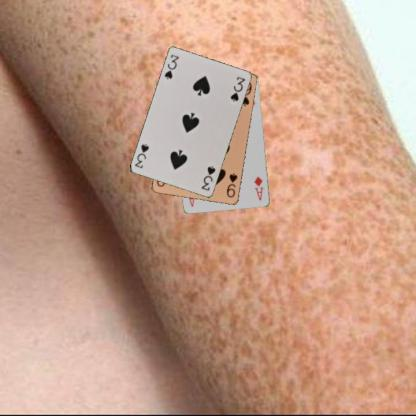3s: (198, 163, 216, 192), (162, 52, 180, 81)
9s: (224, 170, 239, 199)
Ad: (252, 174, 265, 202)
